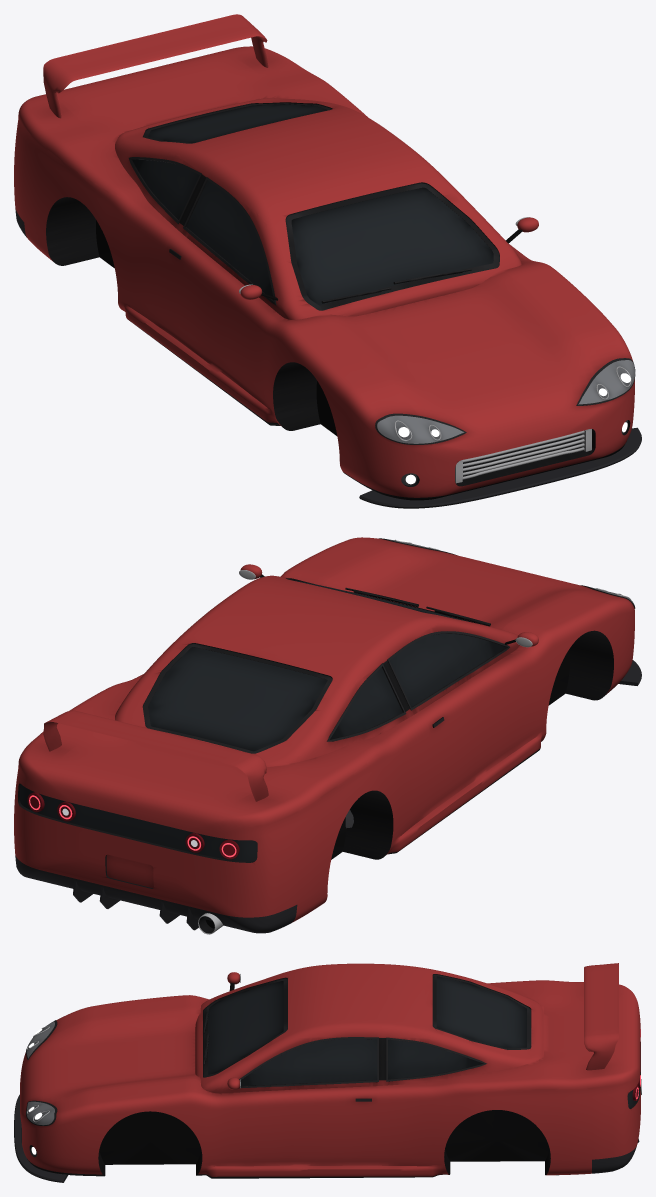
File: ronin.glb
The picture shows the model from 3 angles, top to bottom: view 1: azimuth 30°, elevation 25°; view 2: azimuth 150°, elevation 25°; view 3: azimuth 270°, elevation 25°; orthographic projection. The views are drawn at different scales.
Parts seen in each view (by area): view 1: paint, window, trim, carbon, head, chrome, grille; view 2: paint, window, trim, carbon, glass, tail; view 3: paint, window, trim, carbon, head.
Boxes of the visible parts, x1,y1,x2,y2 form: paint: (14, 14, 634, 497); window: (132, 104, 498, 305); trim: (46, 102, 635, 500); carbon: (15, 209, 641, 508); head: (377, 360, 635, 485); chrome: (239, 217, 631, 483); grille: (463, 434, 581, 476); paint: (14, 537, 634, 922); window: (148, 580, 506, 751); trim: (18, 538, 635, 933); carbon: (15, 660, 641, 933); glass: (19, 784, 257, 861); tail: (27, 792, 239, 859); paint: (20, 963, 640, 1176); window: (208, 976, 526, 1085); trim: (21, 974, 640, 1178); carbon: (14, 1094, 639, 1182); head: (26, 1021, 54, 1156).
Size of what is drawn, in the model's own units: 1.98 by 1.12 by 4.65.
